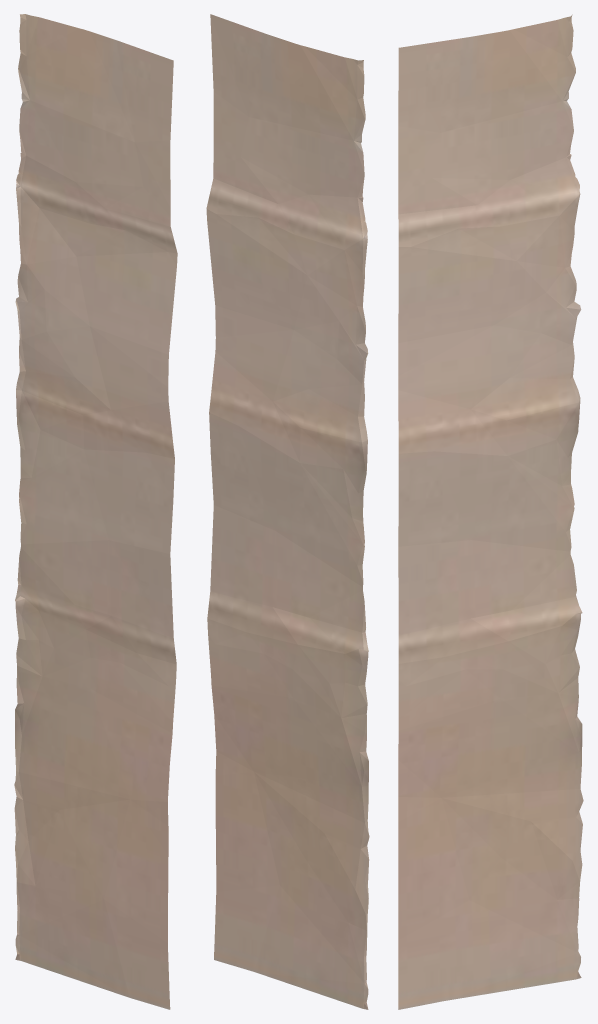
File: Tile_+011_+008_L21_0000014000.glb
The picture shows the model from 3 angles, left to right: view 1: azimuth 30°, elevation 25°; view 2: azimuth 210°, elevation 25°; view 3: azimuth 270°, elevation 25°; orthographic projection.
Visible parts, largest first — view 1: rtc; view 2: rtc; view 3: rtc.
Part boxes in pixels (x1,y1,x2,y2): rtc: (14, 14, 177, 1009); rtc: (206, 14, 369, 1009); rtc: (398, 14, 583, 1009).
Bounding box in the file's own units: 2.32 × 29.02 × 5.05.
1 material, 1 textured.
